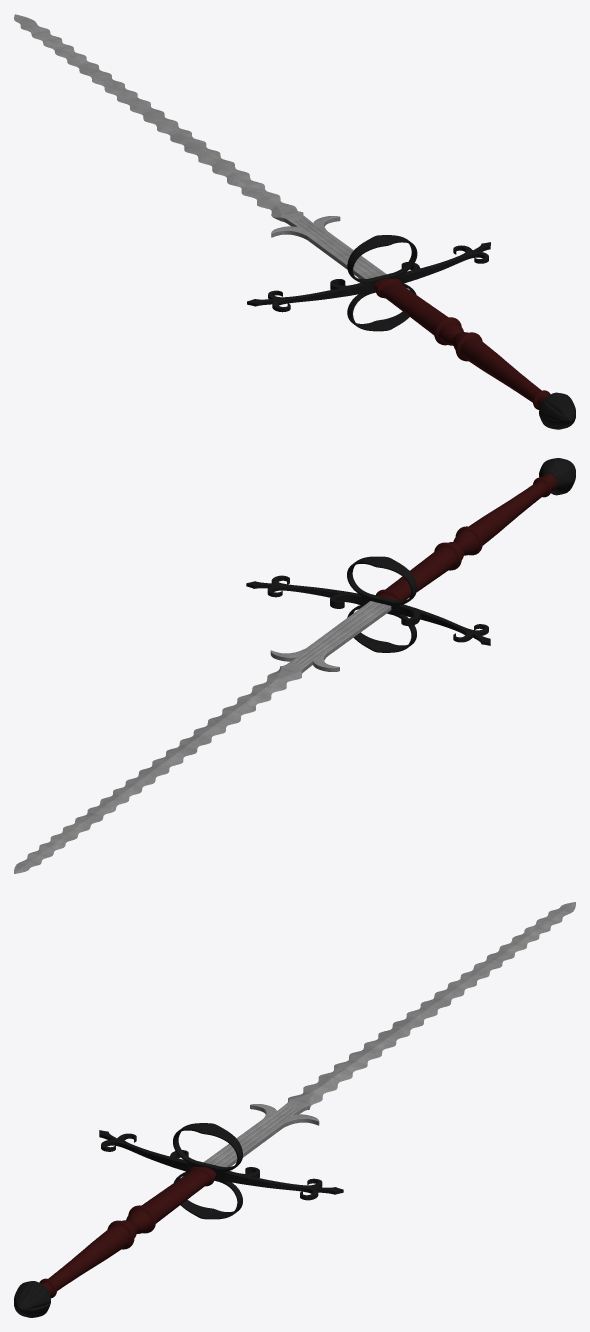
Rendered from Zweihänder-Great-SwordDoppelhänder.glb.
3 renders of one model, top to bottom at view 1: azimuth 30°, elevation 25°; view 2: azimuth 150°, elevation 25°; view 3: azimuth 330°, elevation 25°, orthographic.
Visible parts, largest first — view 1: Object_2, Object_3, Object_5, Object_4; view 2: Object_2, Object_3, Object_5, Object_4; view 3: Object_2, Object_5, Object_3, Object_4.
Part boxes in pixels (left/top/right/bottom): Object_2: left=14, top=14, right=386, bottom=278; Object_3: left=247, top=235, right=490, bottom=331; Object_5: left=374, top=278, right=550, bottom=409; Object_4: left=539, top=392, right=575, bottom=429; Object_2: left=14, top=601, right=391, bottom=873; Object_3: left=246, top=556, right=490, bottom=652; Object_5: left=376, top=473, right=557, bottom=600; Object_4: left=539, top=458, right=575, bottom=495; Object_2: left=203, top=902, right=575, bottom=1167; Object_5: left=39, top=1166, right=216, bottom=1298; Object_3: left=99, top=1123, right=343, bottom=1219; Object_4: left=14, top=1281, right=50, bottom=1317.
Size of the model in its own units: 460 by 157 by 1815.
3 materials, 2 textured.
